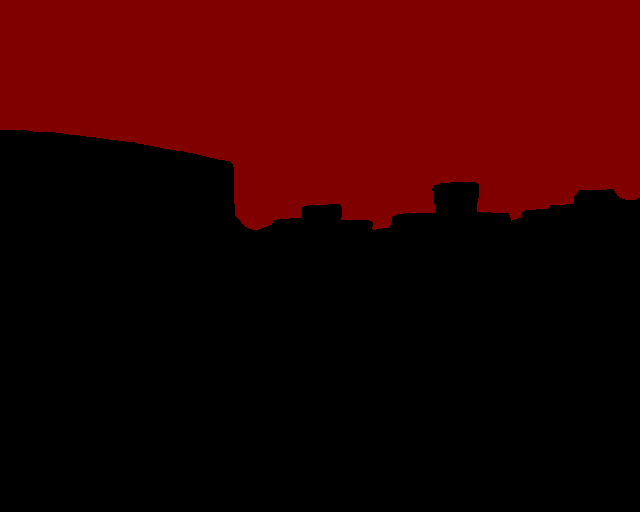Sky: (1, 1, 639, 230)
